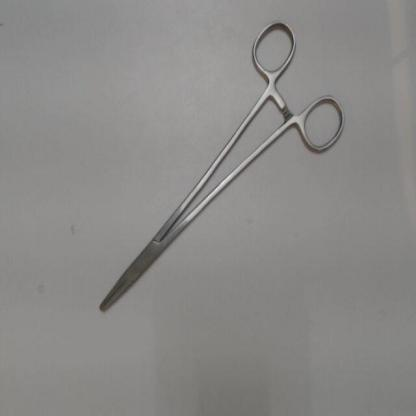8 Mayo Needle Holder: (85, 11, 354, 328)
